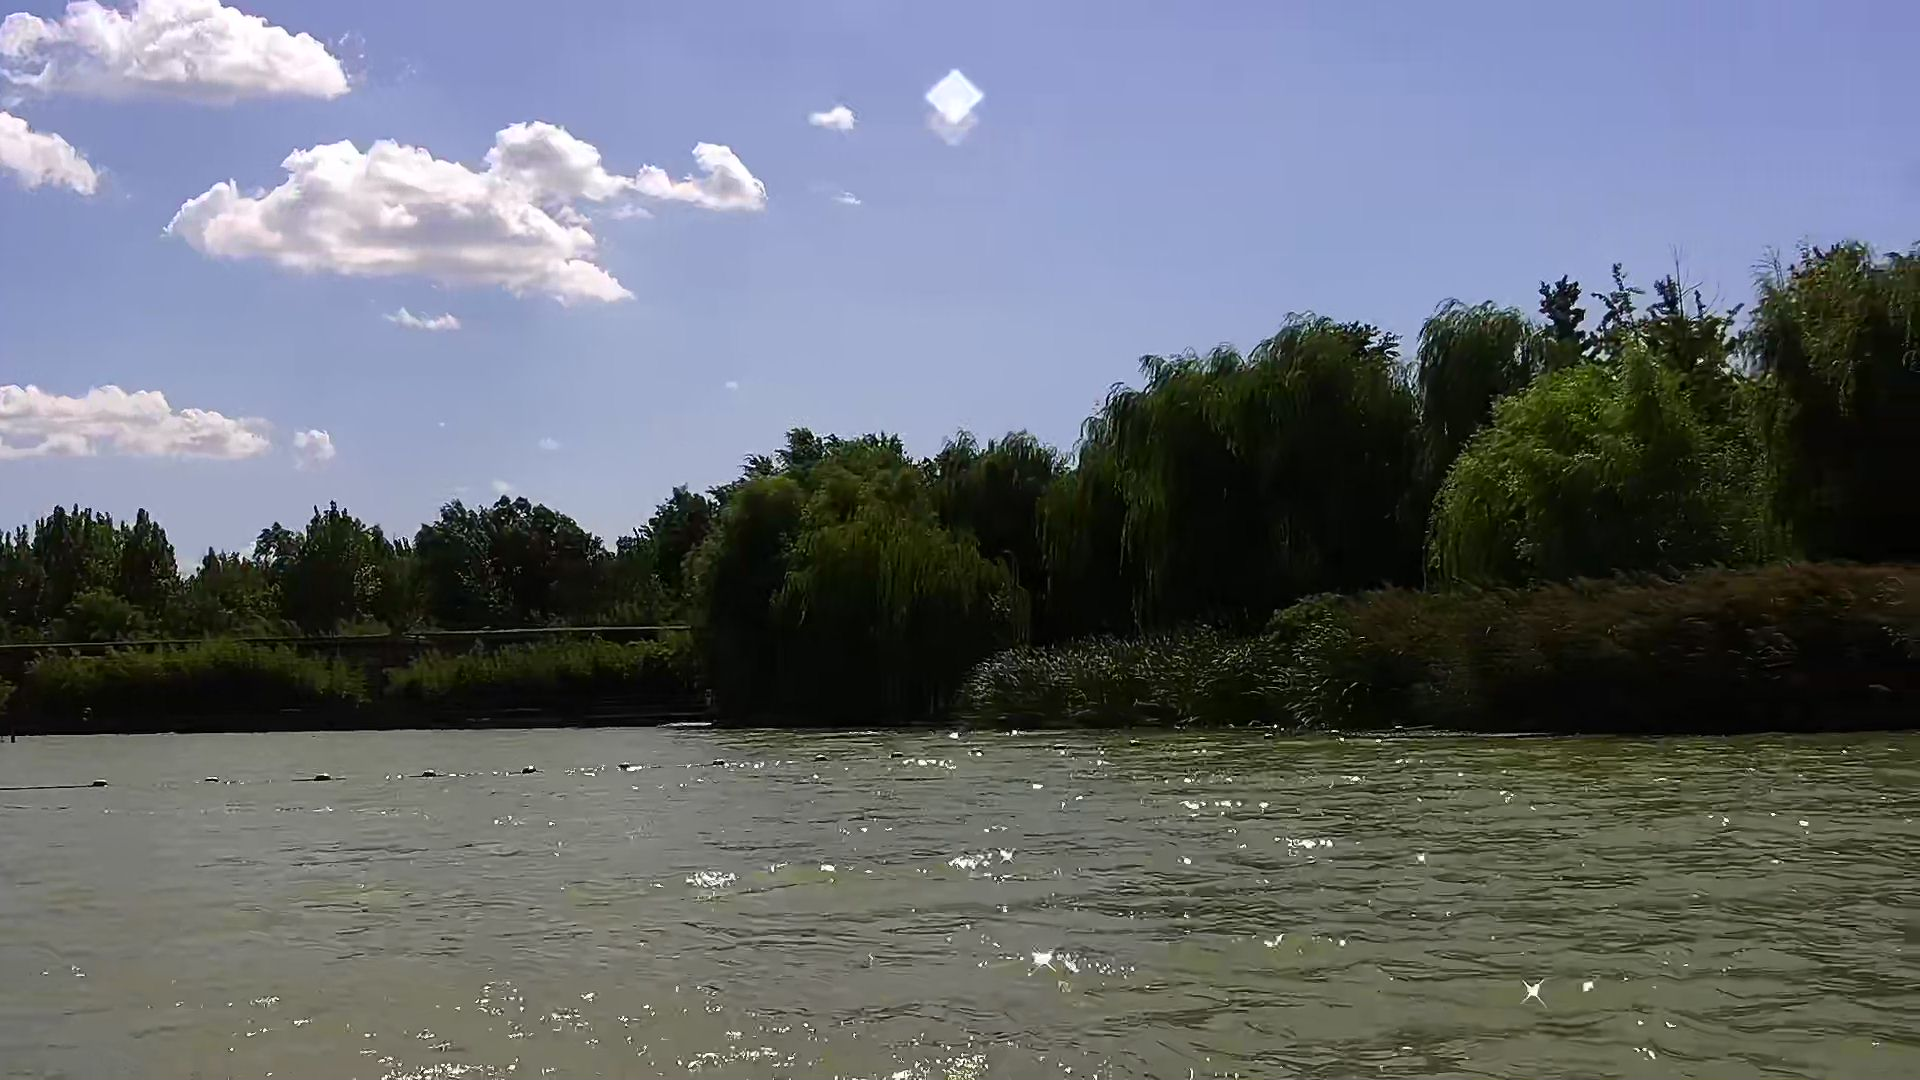ball: (514, 760, 543, 781), (311, 765, 338, 787), (414, 766, 444, 783), (88, 775, 111, 794)
